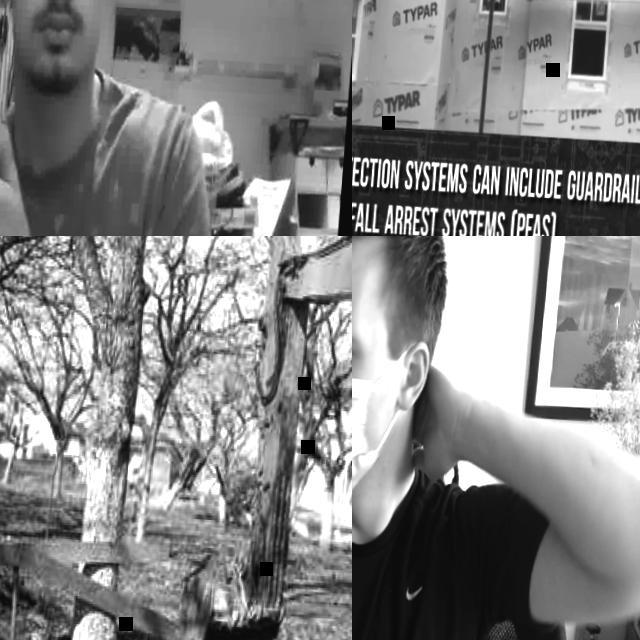machinery: (157, 236, 352, 640)
mask: (352, 338, 414, 507)
no_helmet: (352, 236, 454, 304)
no_mask: (8, 0, 102, 91)
no_vest: (0, 77, 157, 236), (352, 457, 478, 640)
person: (352, 236, 640, 640), (0, 0, 252, 236)
